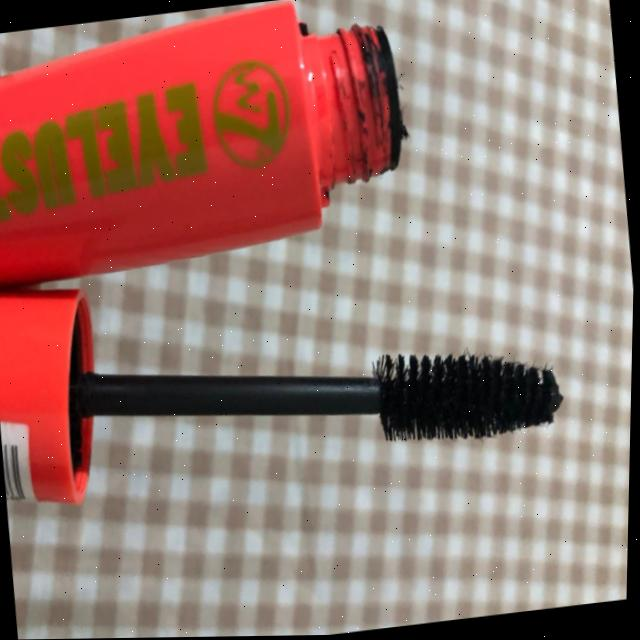mascara: (0, 199, 602, 533)
